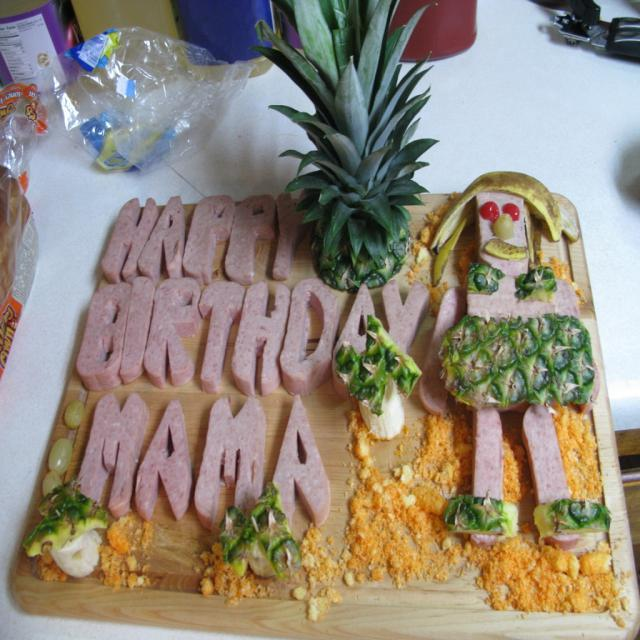Pineapple: (438, 304, 598, 408), (332, 309, 422, 411), (220, 483, 308, 579), (21, 476, 111, 554), (445, 490, 522, 535), (535, 491, 611, 531)
